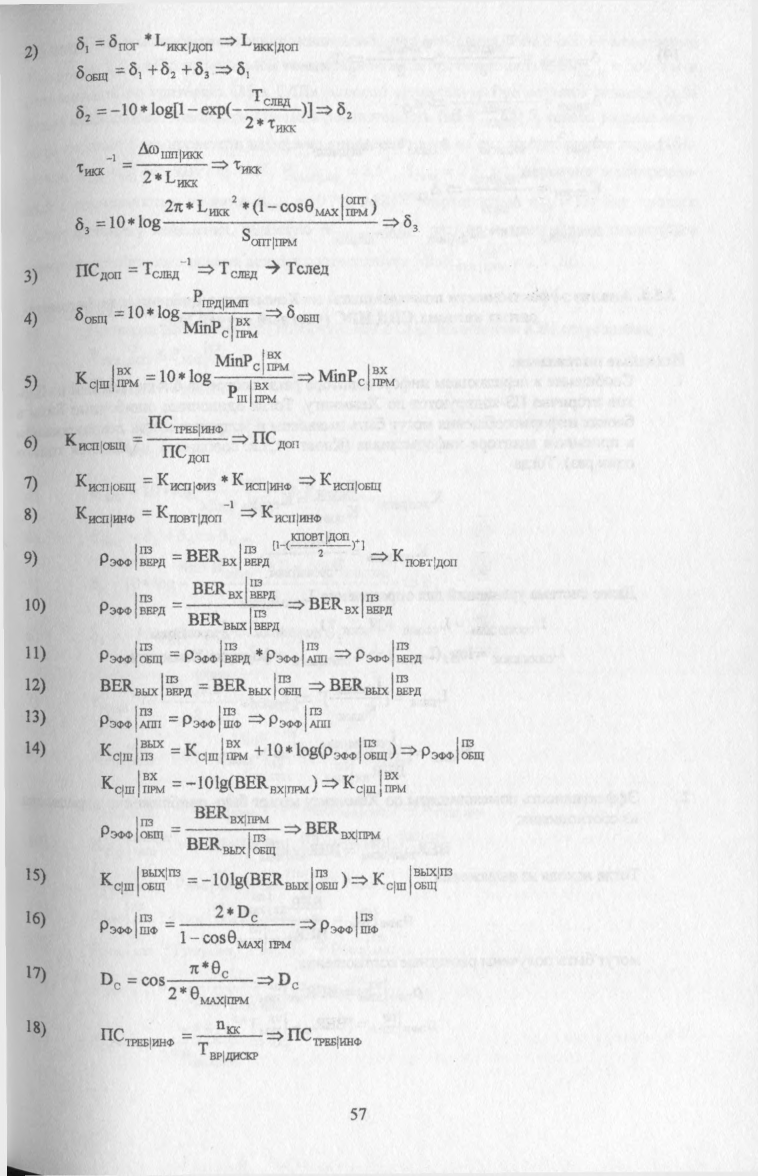L.икк: (196, 199, 229, 217), (167, 169, 196, 187)
L.икк.доп: (153, 32, 214, 53)
S.опт.прм: (237, 226, 298, 248)
T.след: (249, 87, 292, 107), (142, 262, 180, 281)
group: (72, 190, 379, 253), (67, 87, 310, 141), (59, 142, 216, 190), (69, 29, 222, 57), (70, 59, 219, 85), (66, 256, 196, 285)
Δω.шп.икк: (133, 144, 212, 161)
δ.1: (71, 33, 91, 57), (124, 59, 144, 81)
δ.2: (74, 99, 93, 123), (159, 59, 178, 80)
δ.3: (193, 59, 212, 82), (74, 213, 91, 237)
δ.общ: (72, 306, 111, 327), (74, 65, 109, 84)
δ.пог: (110, 33, 139, 52)
θ.max.опт.прм: (305, 192, 368, 218)
τ.икк: (73, 162, 108, 178), (267, 117, 297, 134)
ПС.доп: (69, 261, 123, 280)
